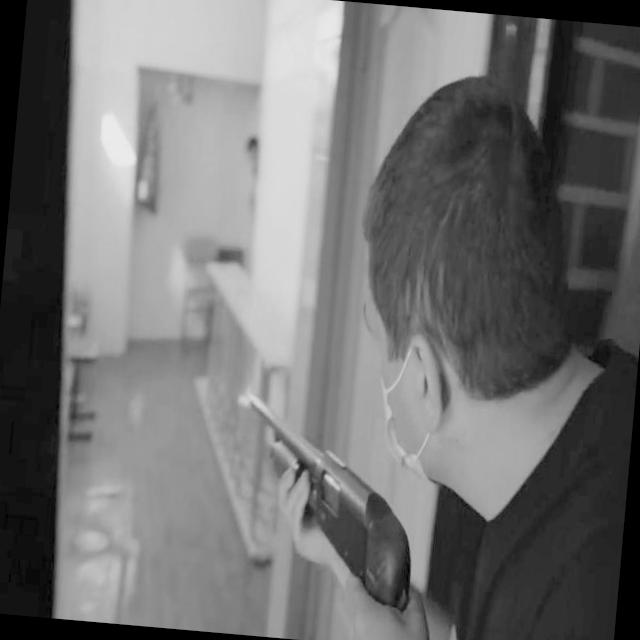gun: (232, 393, 426, 614)
person with a gun: (215, 47, 640, 640)
